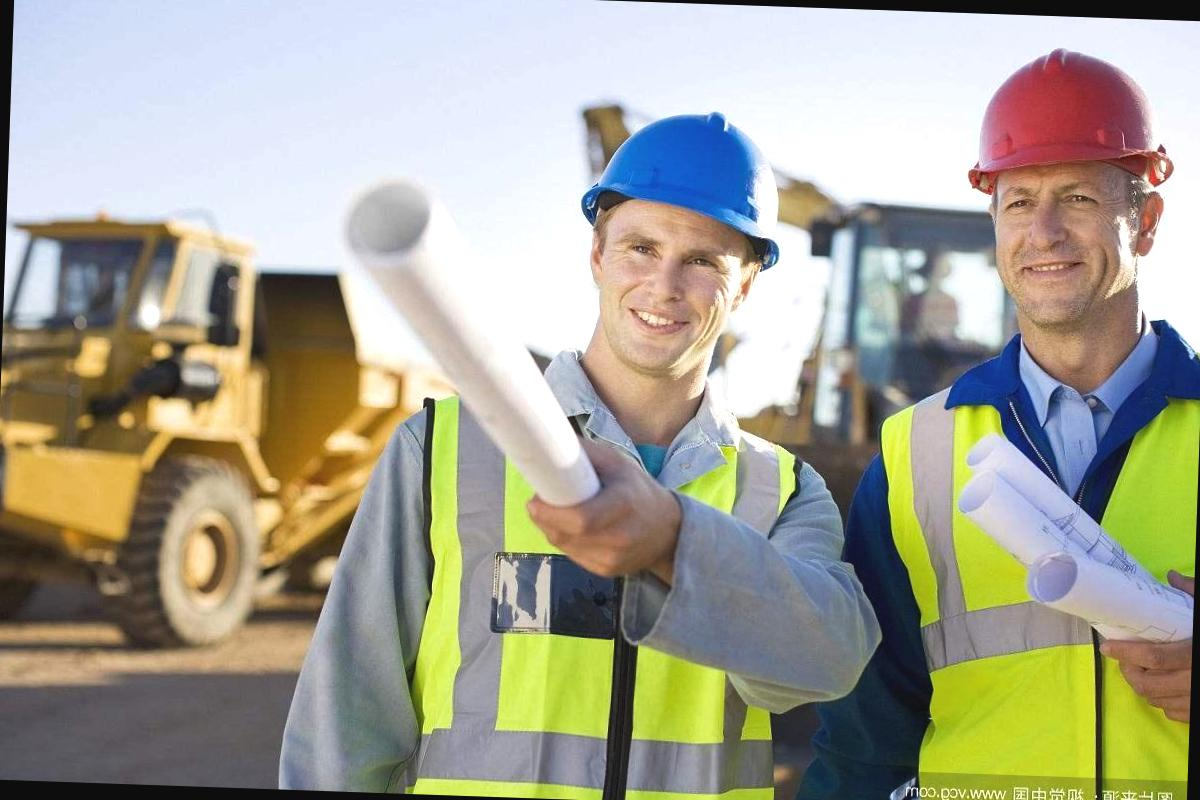helmet: (570, 103, 798, 276), (959, 36, 1182, 192)
person: (269, 93, 894, 800), (825, 37, 1200, 800)
